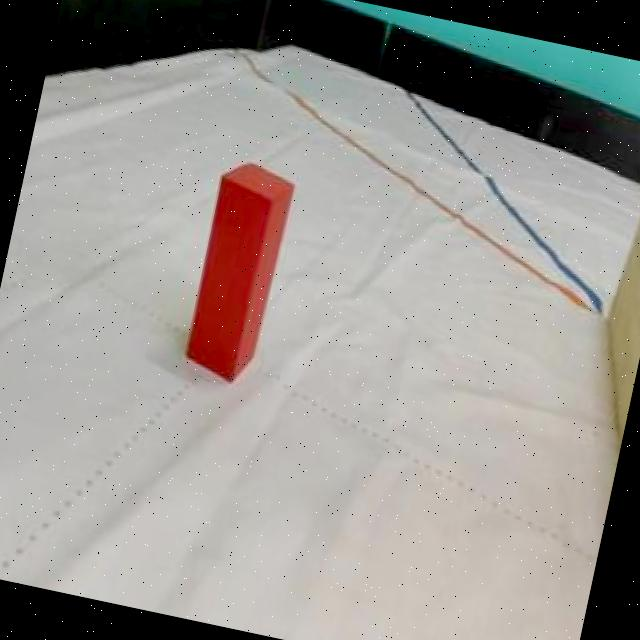redbox: (175, 152, 294, 386)
